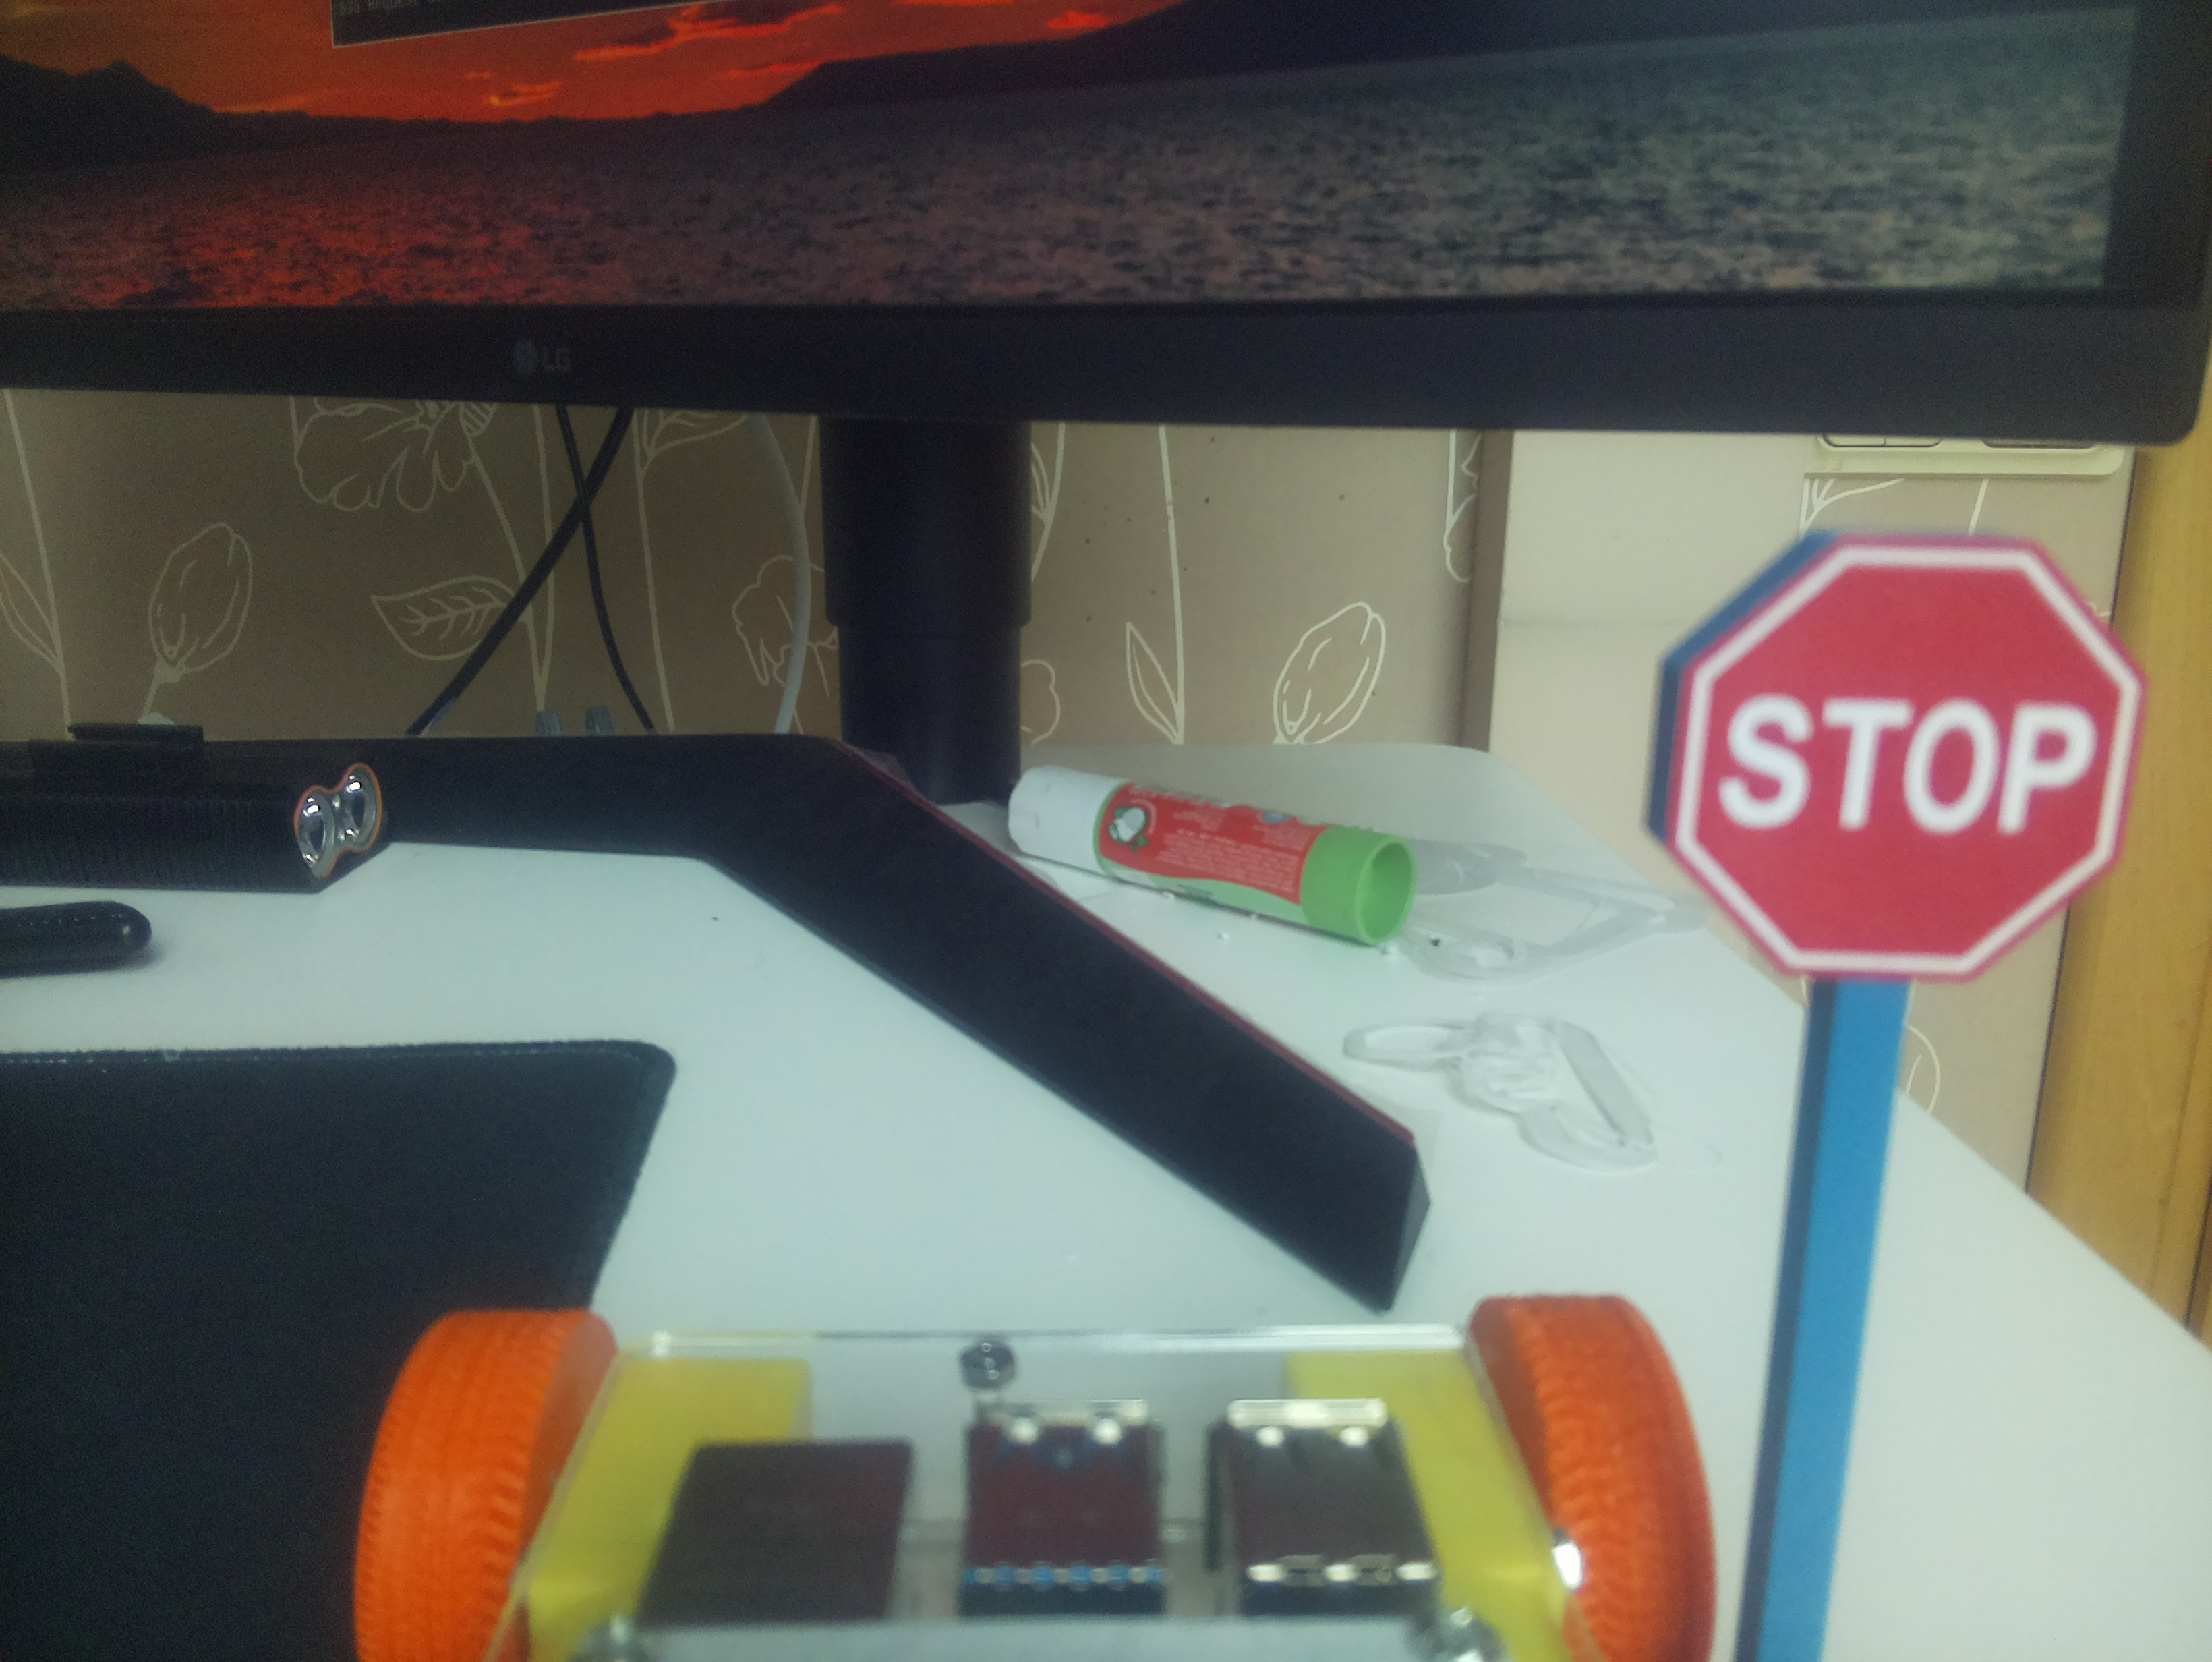stop: (1667, 535, 2145, 978)
